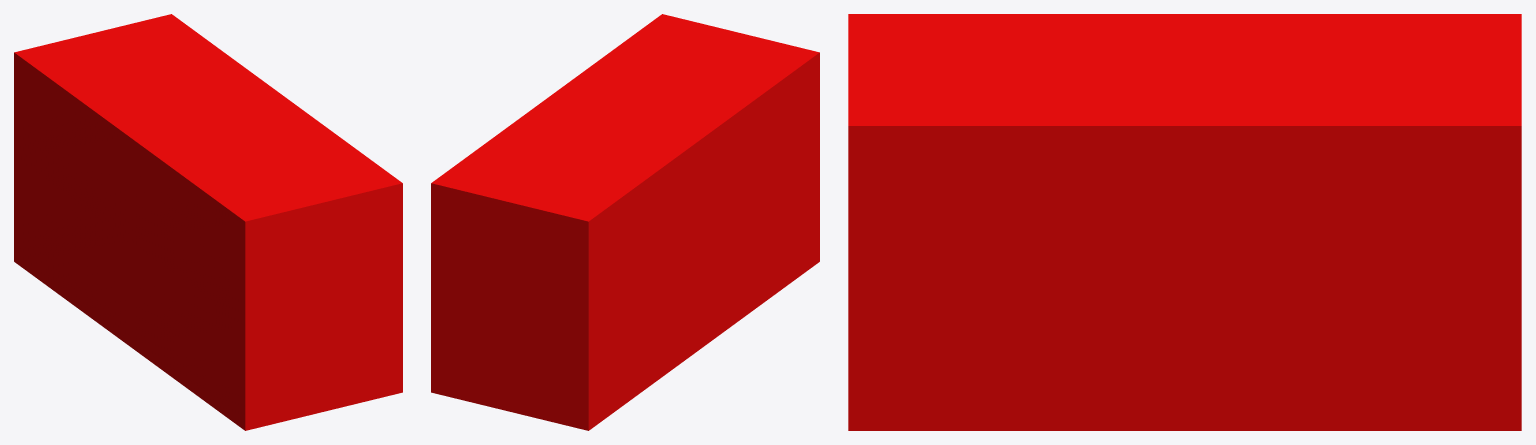
File: fingers3_col.dae
3 views of the same model, side by side, from view 1: azimuth 30°, elevation 25°; view 2: azimuth 150°, elevation 25°; view 3: azimuth 270°, elevation 25° (orthographic). The views are drawn at different scales.
Visible parts, largest first — view 1: node0; view 2: node0; view 3: node0.
Boxes of the visible parts, x1,y1,x2,y2 form: node0: (14, 14, 402, 430); node0: (431, 14, 819, 430); node0: (848, 14, 1521, 430).
Bounding box in the file's own units: 0.0116 × 0.0147 × 0.0295.
